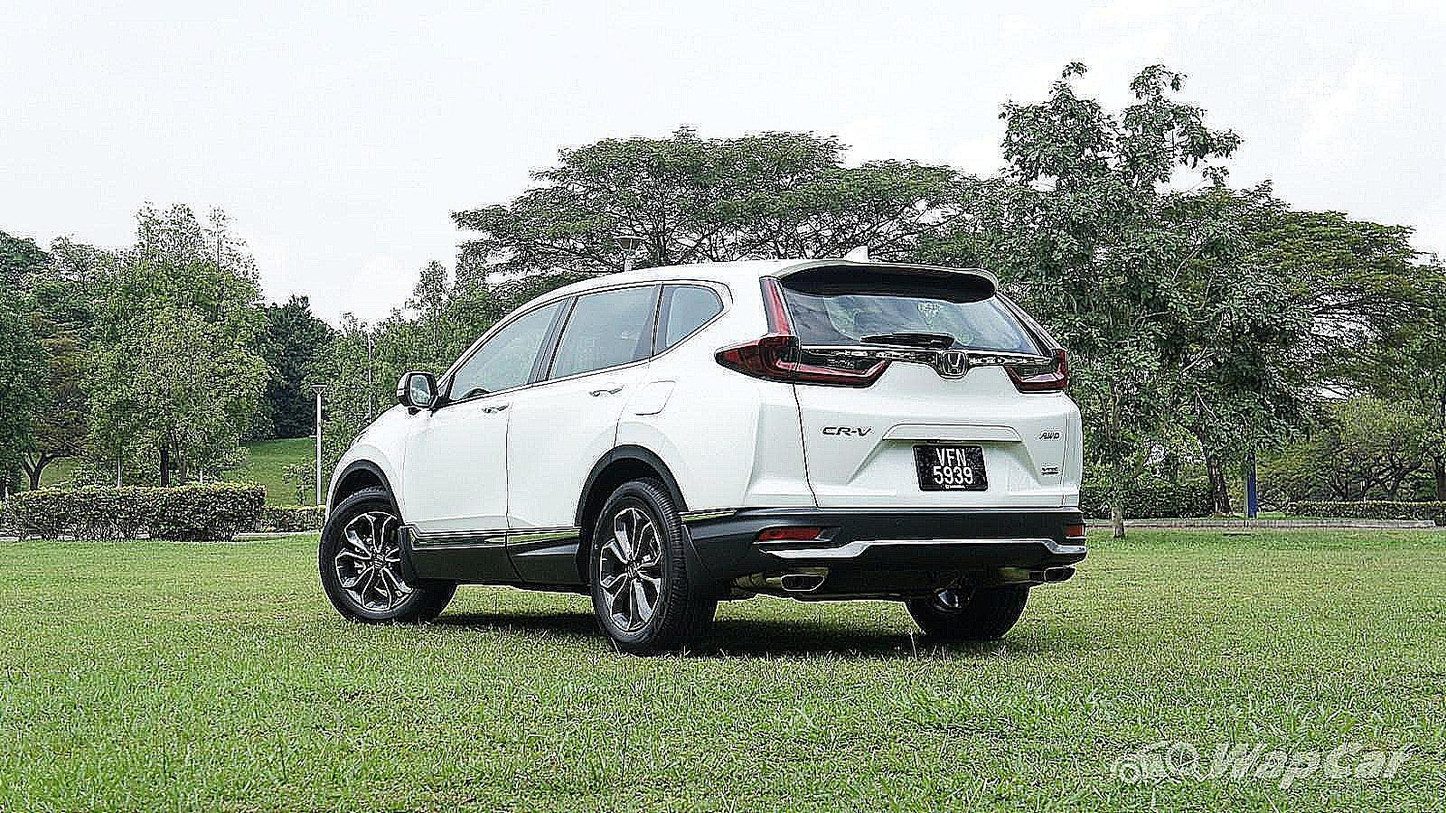Car boot: (776, 265, 1073, 510)
Fender - -F-L-: (347, 403, 431, 583)
Fender - -R-L-: (614, 331, 770, 515)
Front bumper: (675, 505, 1100, 616), (302, 445, 365, 527)
Headlight - -L-: (341, 416, 374, 454)
Passenger-s door - -F-L-: (398, 285, 551, 554)
Passenger-s door - -R-L-: (512, 271, 669, 554)
Rear light - -L-: (708, 272, 895, 395)
Rear light - -R-: (989, 286, 1076, 400)
Side bumper - -L-: (389, 517, 600, 593)
Side mirror - -L-: (388, 367, 447, 420)
